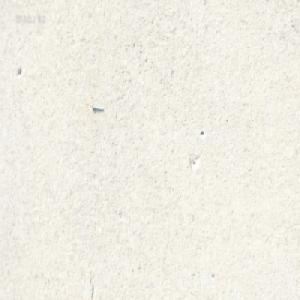Nail: (90, 102, 104, 110)
